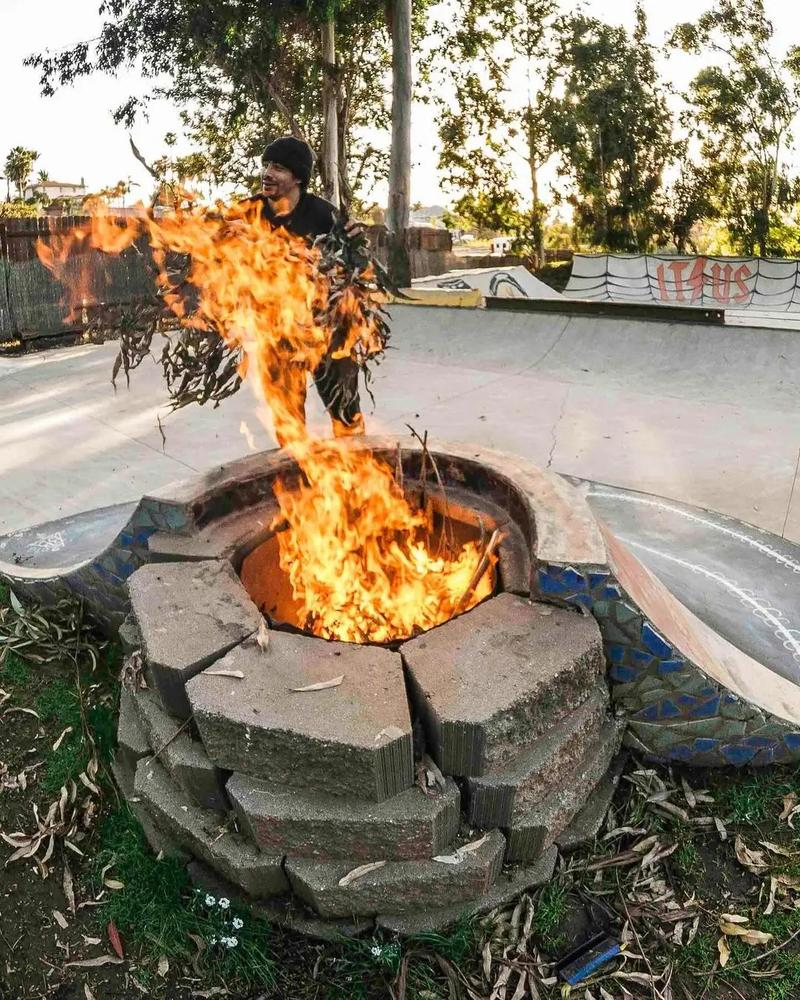fire: (30, 188, 509, 649)
